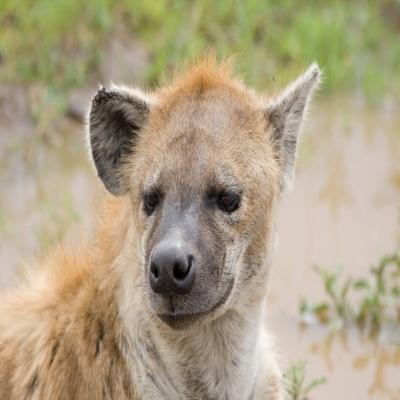hyenas: (25, 26, 332, 400)
